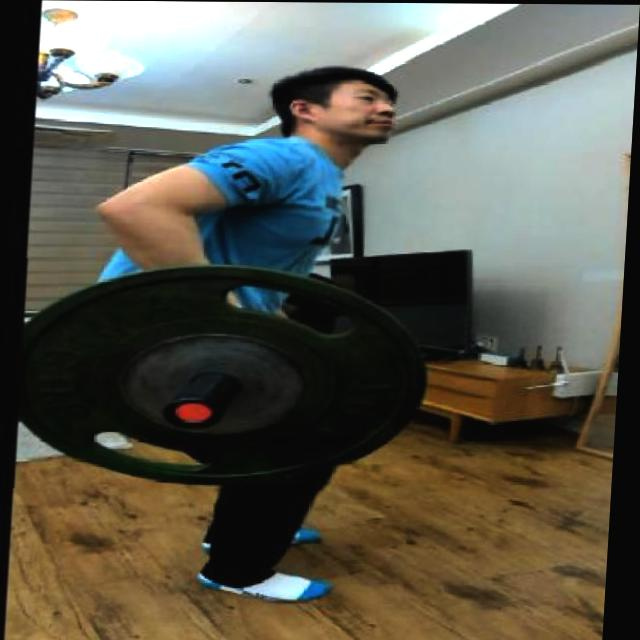barbell: (9, 259, 453, 492)
